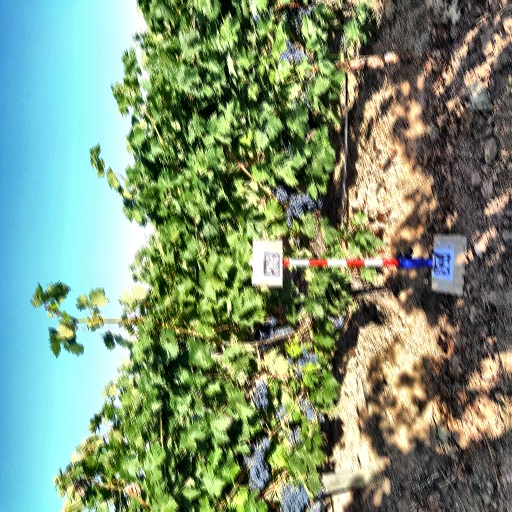QR: (435, 253, 453, 276), (265, 253, 282, 276)
